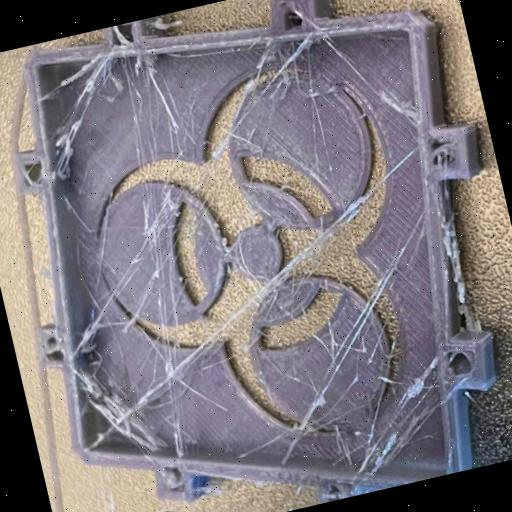stringing: (86, 136, 422, 456), (267, 203, 430, 466), (139, 203, 195, 459), (343, 348, 446, 480), (69, 260, 156, 369), (77, 357, 155, 464), (253, 38, 321, 94), (53, 62, 119, 116), (44, 117, 89, 182)
